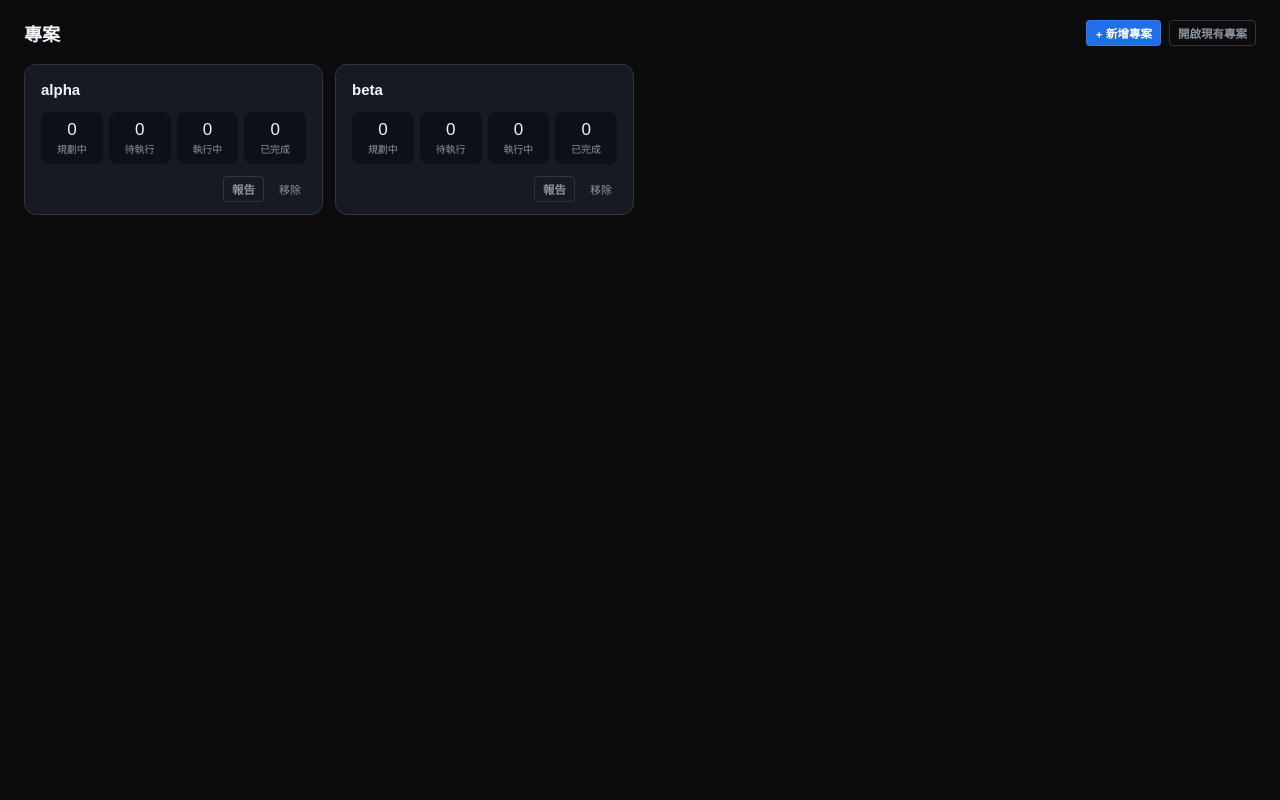
Test case: TaskBoardView 路由 › 關閉最後一個分頁後回到專案總覽
This screenshot has width=1280, height=800.
Click the text "alpha" at (61, 90), box x1=41 y1=81 x2=80 y2=98
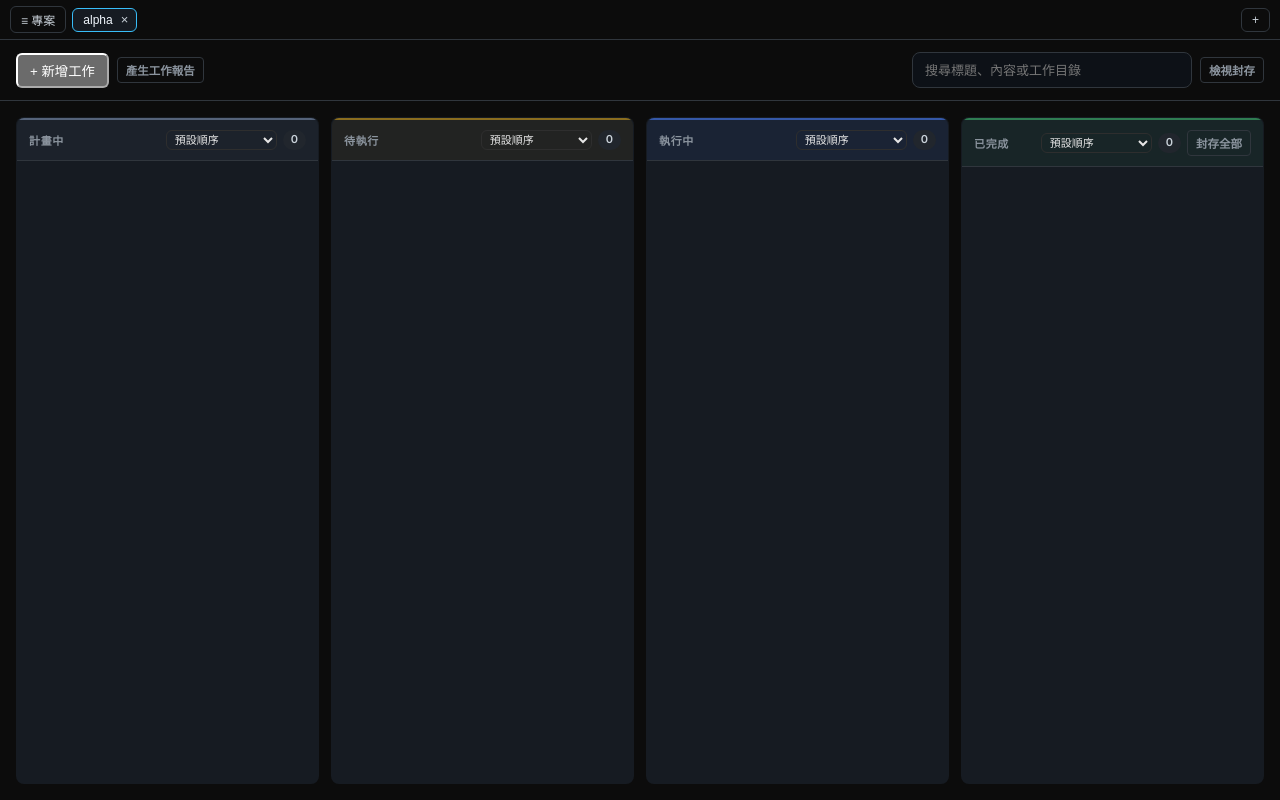
Check: the element with test id "column-planning" is shown, box x1=16 y1=117 x2=319 y2=784
Click the button with test id "project-tab-close-alpha" at (126, 20), box x1=117 y1=9 x2=136 y2=30
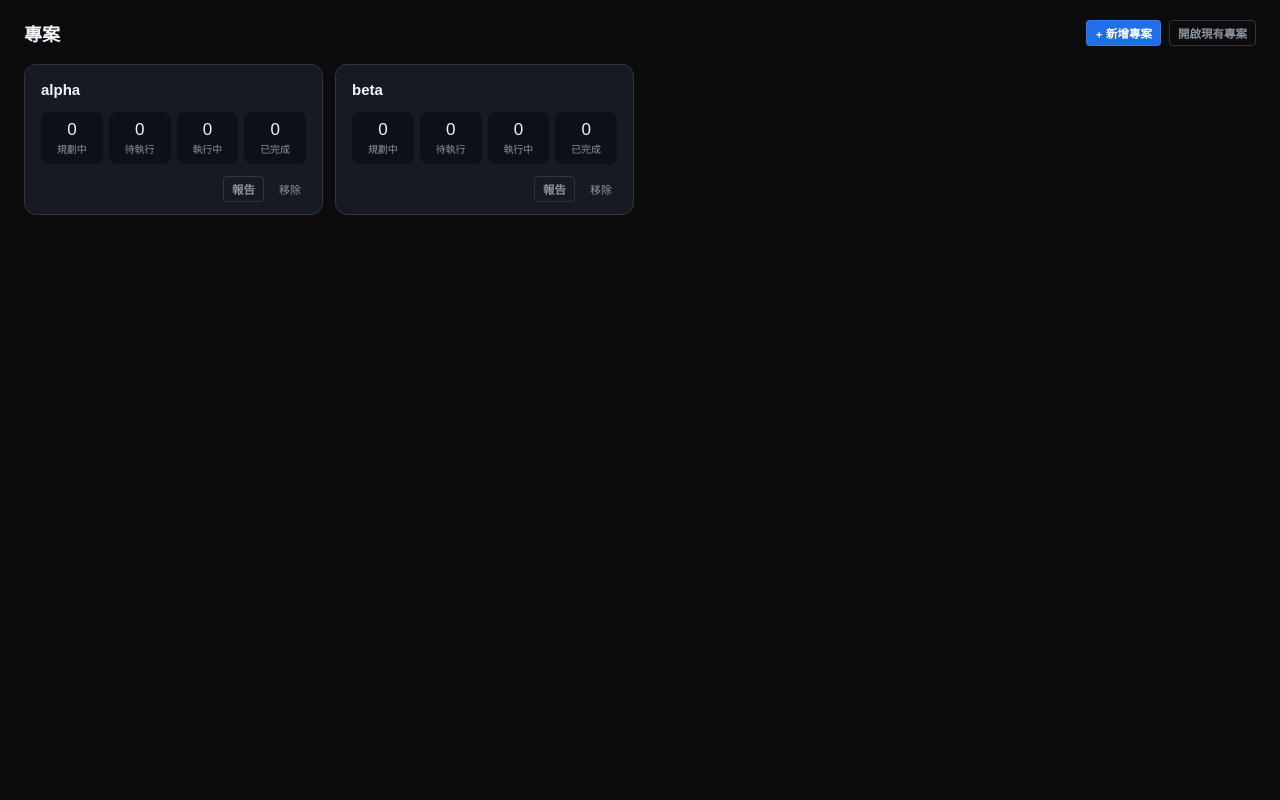
Check: the element with test id "column-planning" is gone
